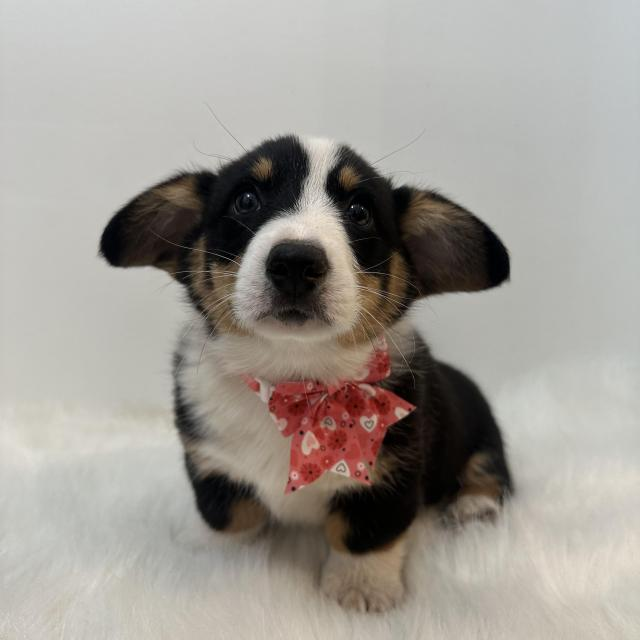corgi_dog: (80, 119, 521, 360)
